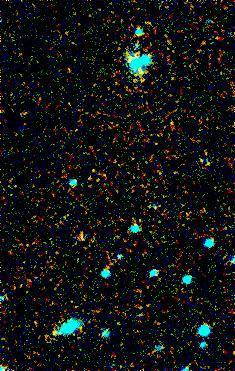star: (40, 319, 70, 349)
